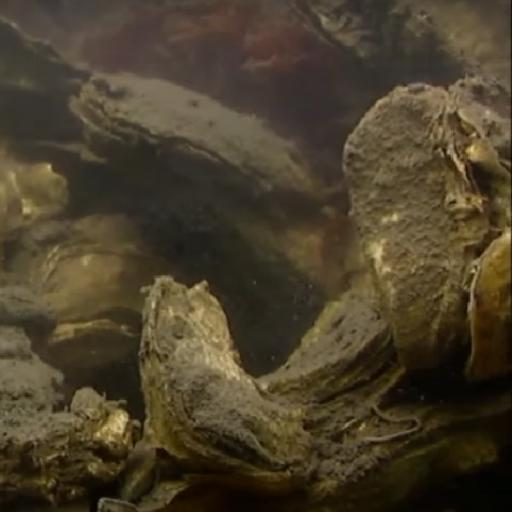Oyster-Closed: (351, 85, 494, 376), (142, 283, 324, 491), (73, 73, 330, 206), (42, 244, 180, 324), (471, 230, 512, 387), (37, 322, 141, 379)
Oyster-Open: (292, 1, 389, 70)
